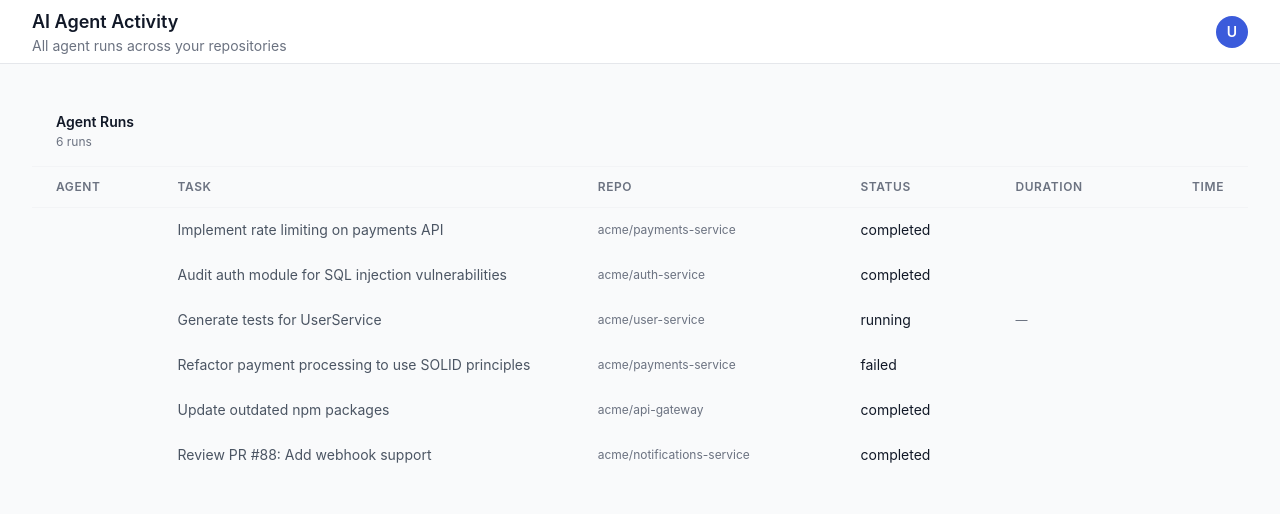
Test: AgentActivityPage › opens the detail panel when a row is clicked
Click the text "Implement rate limiting on payments API".
click(640, 230)  # box x1=32 y1=208 x2=1248 y2=252
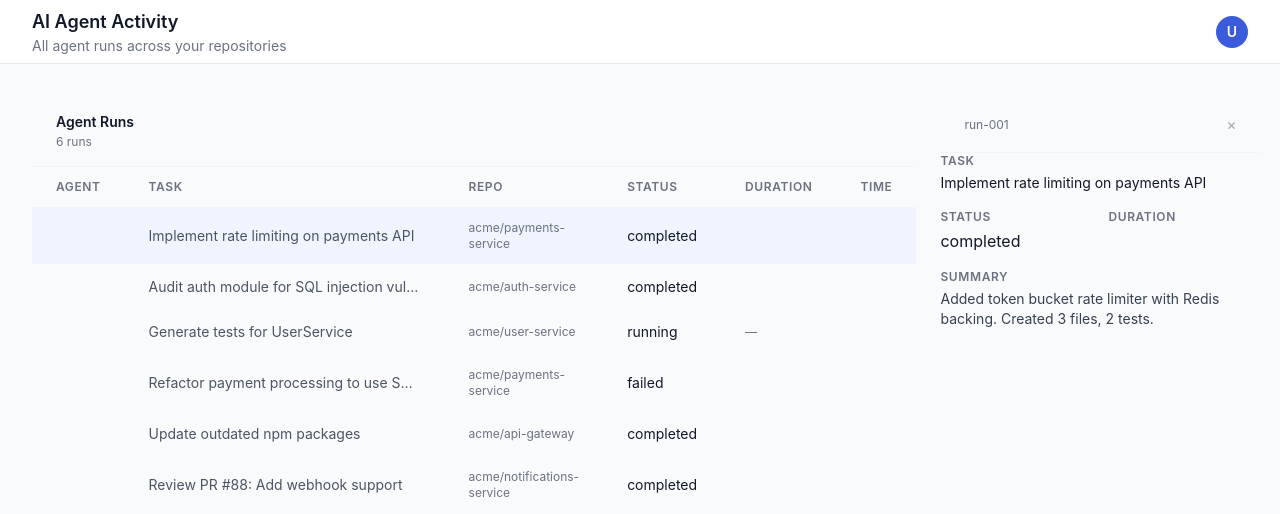
Now the button "✕" is shown, box x1=1226 y1=118 x2=1236 y2=134
